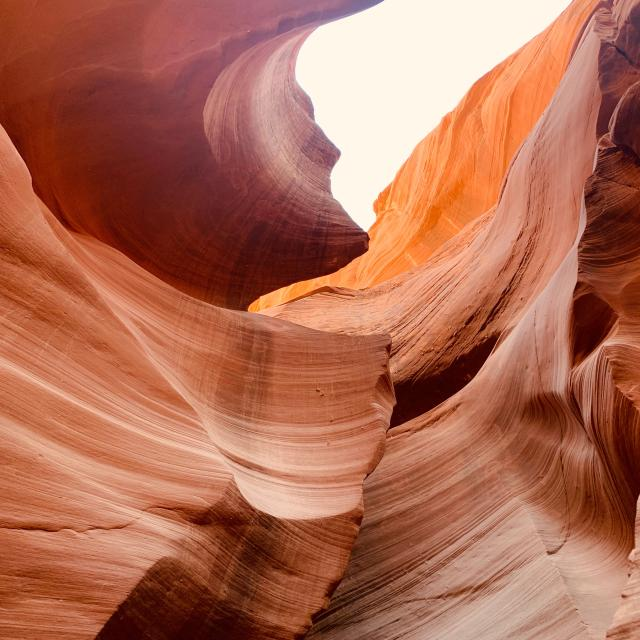Sedimentary: (4, 1, 638, 640)
